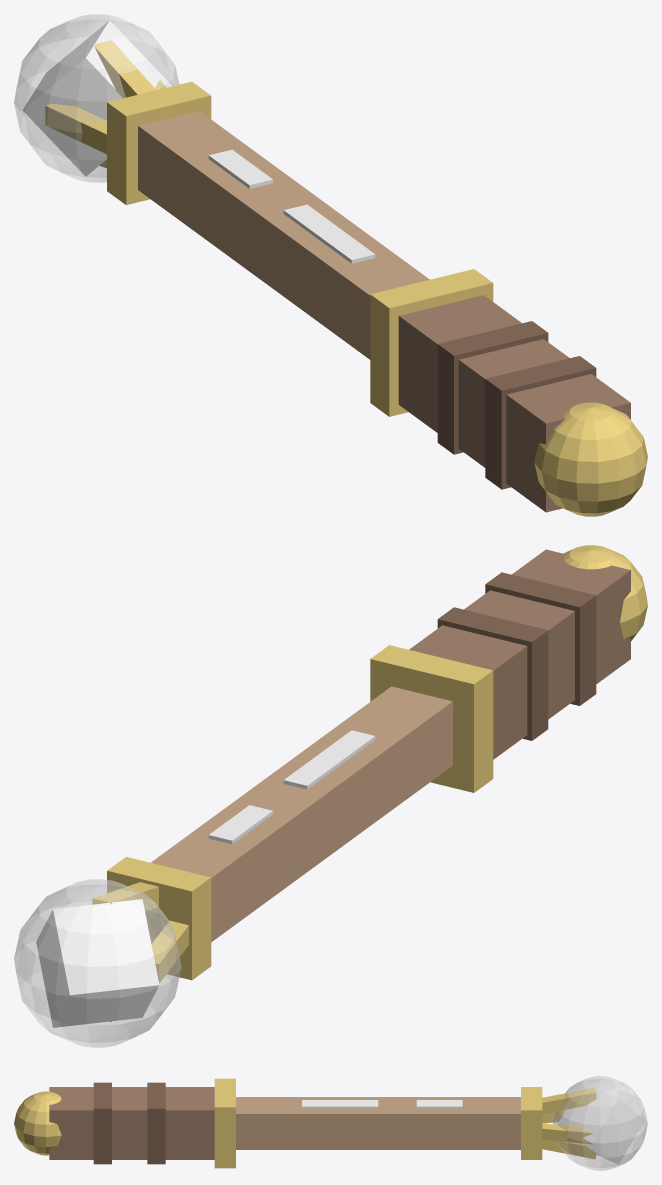
File: Wand.fbx
The picture shows the model from 3 angles, top to bottom: view 1: azimuth 30°, elevation 25°; view 2: azimuth 150°, elevation 25°; view 3: azimuth 270°, elevation 25°; orthographic projection. The views are drawn at different scales.
Visible parts, largest first — view 1: Shaft, Grip, TipGlow, Pommel, Tip, Band, Band.001, GripWrap.001, GripWrap, Rune, Prong.001, Prong.002 (+1 smaller); view 2: Shaft, TipGlow, Grip, Tip, Band, Band.001, GripWrap.001, GripWrap, Pommel, Rune, Prong.001, Rune.001 (+1 smaller); view 3: Shaft, Grip, TipGlow, Tip, Pommel, Band, Band.001, GripWrap.001, GripWrap, Prong.002, Prong, Rune (+3 smaller).
Boxes of the visible parts, bbox=[...] form: Shaft: bbox=[138, 111, 429, 359]; Grip: bbox=[398, 295, 630, 512]; TipGlow: bbox=[14, 14, 179, 182]; Pommel: bbox=[534, 402, 647, 516]; Tip: bbox=[23, 20, 171, 176]; Band: bbox=[370, 269, 493, 416]; Band.001: bbox=[107, 81, 211, 204]; GripWrap.001: bbox=[437, 321, 548, 454]; GripWrap: bbox=[485, 356, 596, 489]; Rune: bbox=[283, 204, 375, 263]; Prong.001: bbox=[45, 103, 106, 154]; Prong.002: bbox=[92, 40, 156, 98]; Shaft: bbox=[151, 686, 452, 941]; TipGlow: bbox=[14, 879, 181, 1047]; Grip: bbox=[409, 549, 630, 759]; Tip: bbox=[36, 899, 159, 1027]; Band: bbox=[370, 645, 493, 792]; Band.001: bbox=[107, 857, 211, 980]; GripWrap.001: bbox=[437, 607, 548, 740]; GripWrap: bbox=[485, 572, 596, 705]; Pommel: bbox=[564, 545, 647, 640]; Rune: bbox=[283, 730, 375, 789]; Prong.001: bbox=[151, 920, 188, 982]; Rune.001: bbox=[208, 805, 273, 844]; Shaft: bbox=[236, 1097, 520, 1149]; Grip: bbox=[49, 1087, 214, 1159]; TipGlow: bbox=[553, 1076, 647, 1170]; Tip: bbox=[557, 1082, 644, 1164]; Pommel: bbox=[14, 1091, 61, 1155]; Band: bbox=[214, 1078, 235, 1168]; Band.001: bbox=[521, 1087, 542, 1159]; GripWrap.001: bbox=[147, 1082, 165, 1164]; GripWrap: bbox=[93, 1082, 111, 1164]; Prong.002: bbox=[542, 1088, 596, 1114]; Prong: bbox=[542, 1123, 592, 1144]; Rune: bbox=[302, 1100, 378, 1108].
Bounding box in the file's own units: 17.36 × 17.36 × 116.
